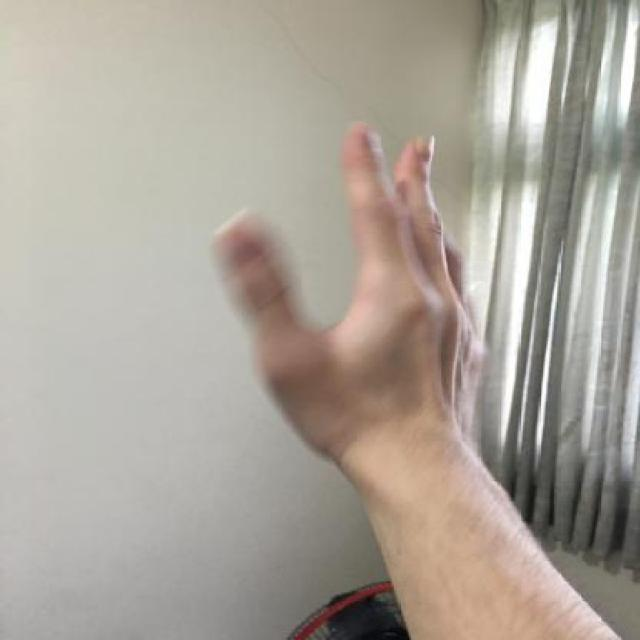bare_hand: (190, 110, 518, 492)
